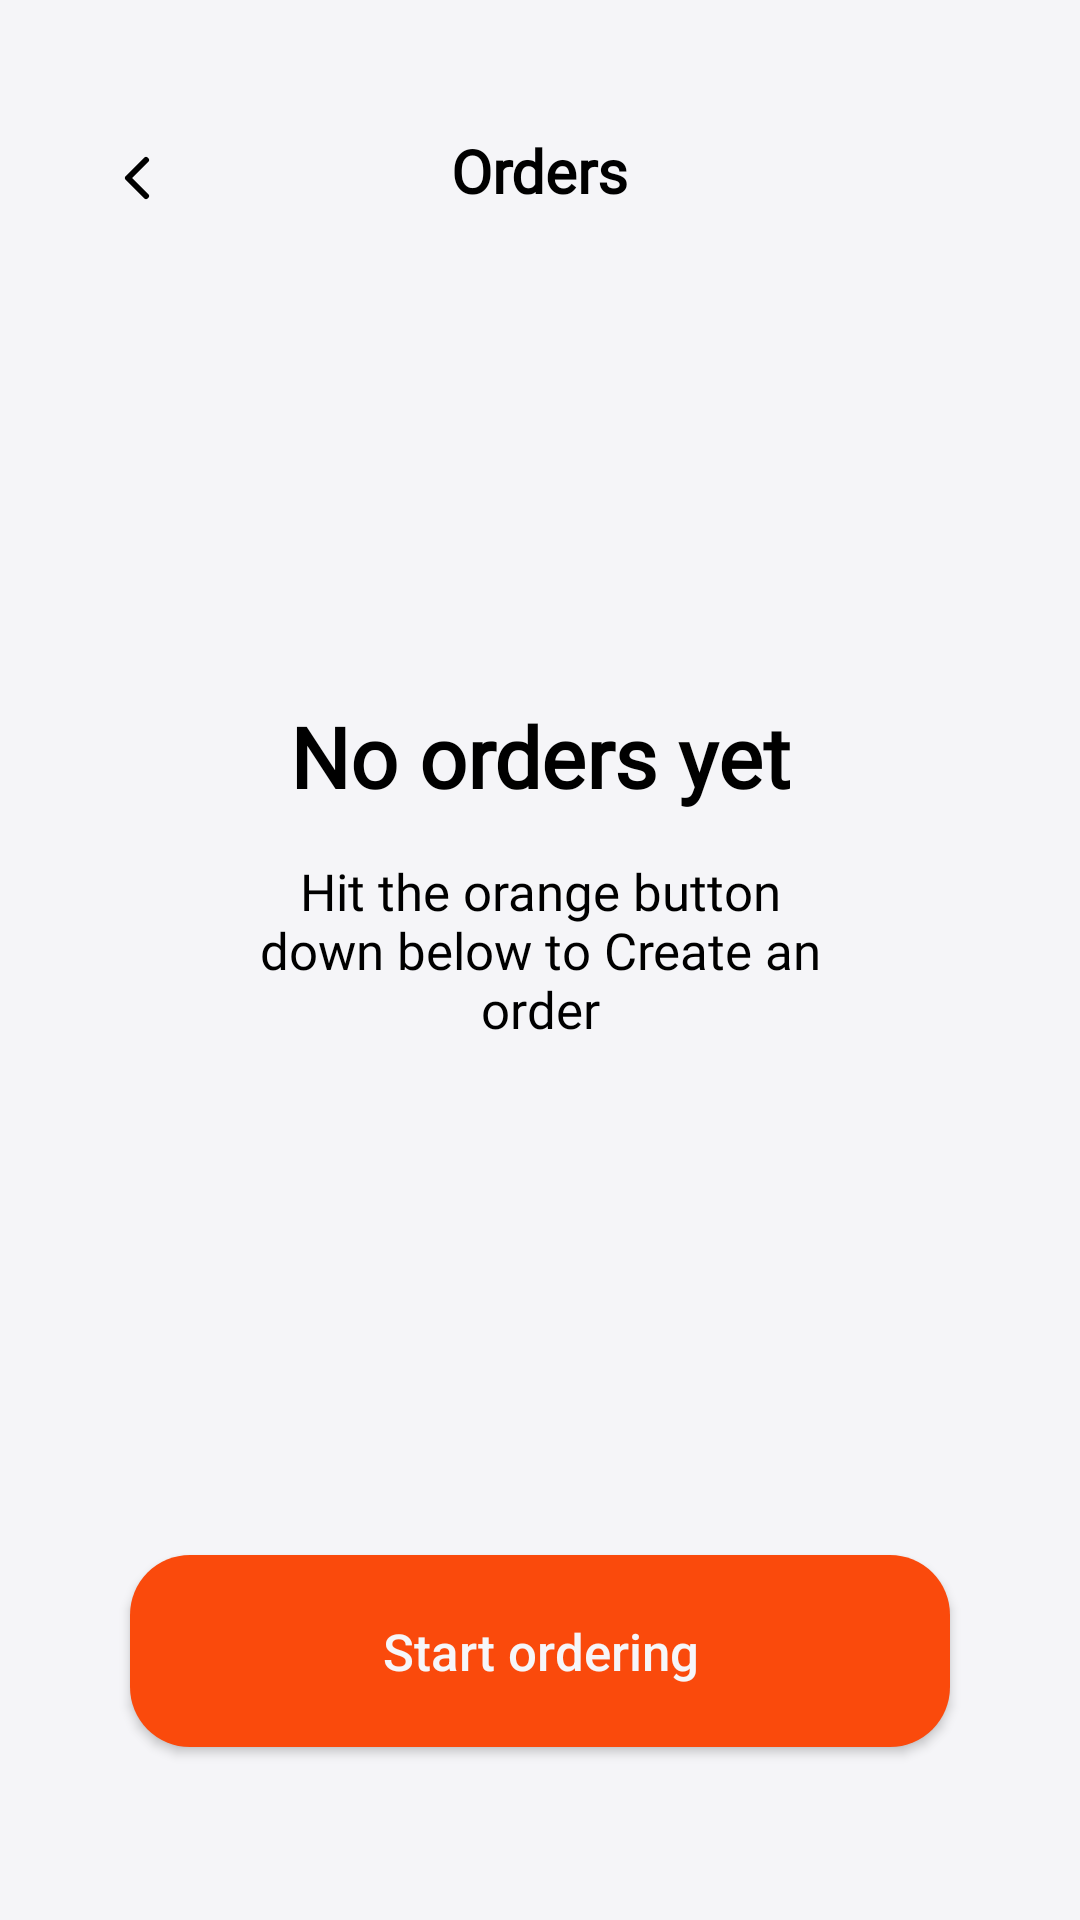

Named icons in this screenshot (1080×1920) and their centers, (x,y):
chevron left: (137,178)
